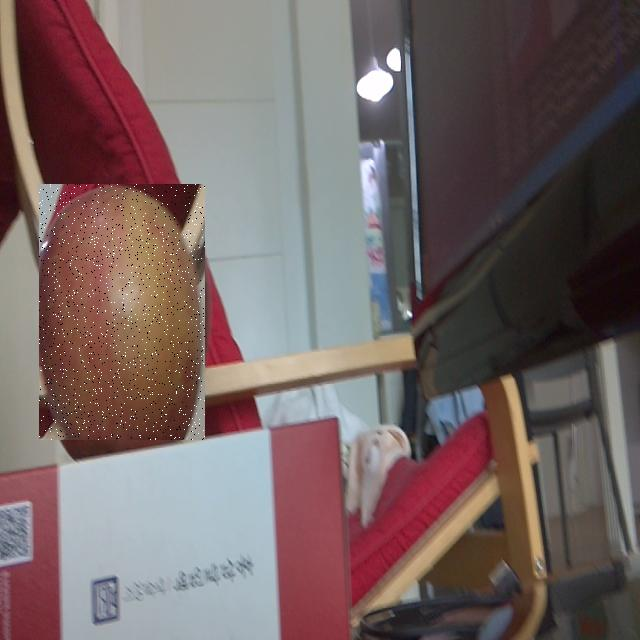apple: (39, 184, 205, 440)
